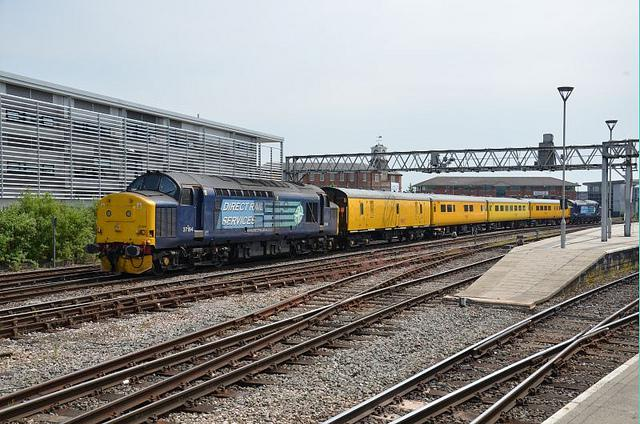Train: (86, 170, 562, 276)
